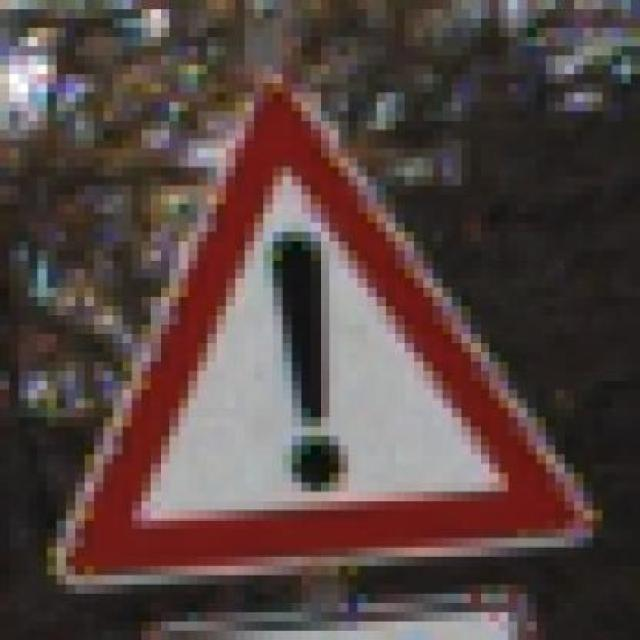Attention Please-: (56, 65, 602, 584)
